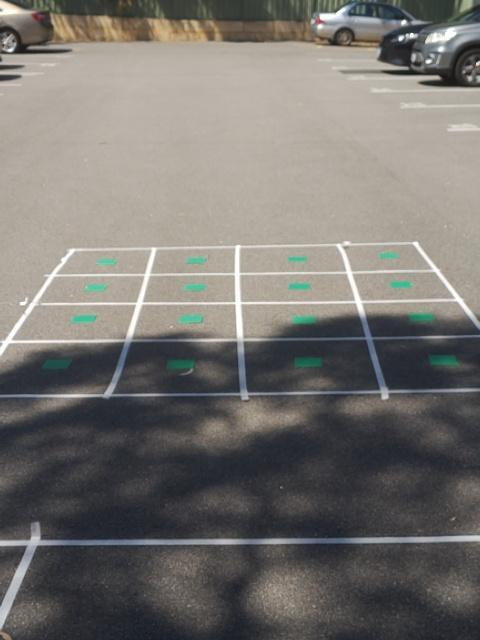weed: (430, 352, 459, 367), (40, 358, 73, 371), (69, 312, 97, 325), (408, 311, 436, 323), (165, 359, 195, 370), (295, 357, 322, 367), (178, 314, 204, 324), (83, 283, 107, 293), (292, 315, 315, 324), (390, 280, 412, 289), (183, 283, 206, 291), (377, 251, 399, 259), (186, 256, 206, 264), (288, 283, 310, 290), (288, 256, 307, 264), (96, 258, 118, 264)
